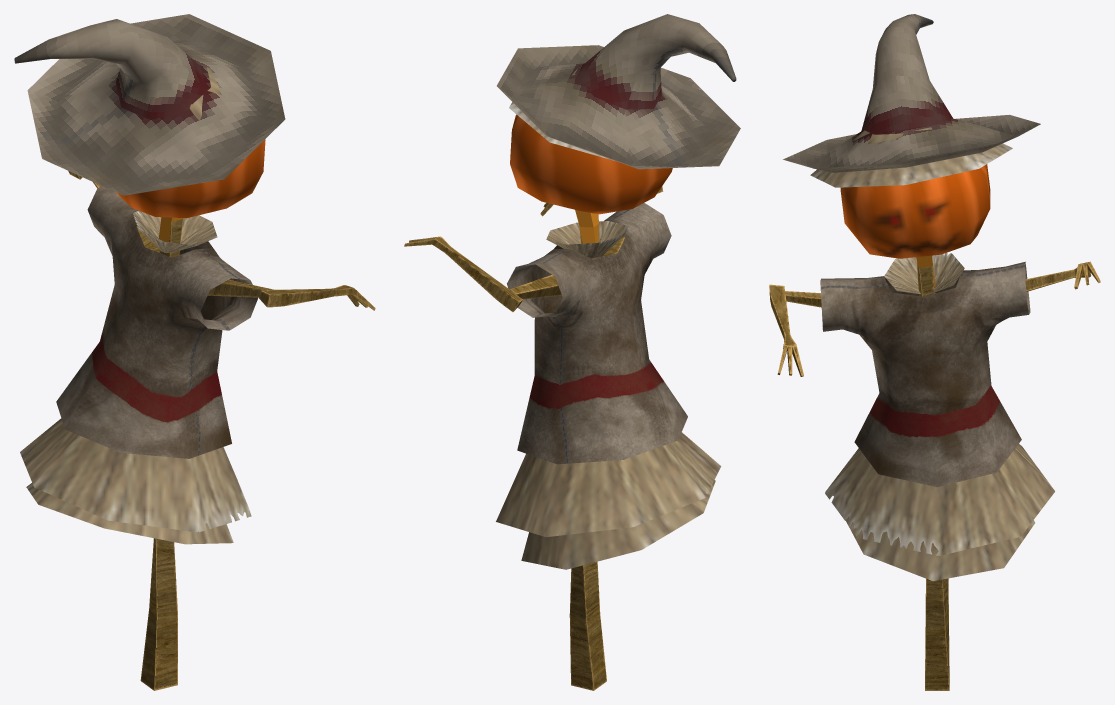
The model's file is SACRECROW.fbx.
3 renders of one model, left to right at view 1: azimuth 30°, elevation 25°; view 2: azimuth 150°, elevation 25°; view 3: azimuth 270°, elevation 25°, orthographic. The views are drawn at different scales.
Parts seen in each view (by area): view 1: HAT, body, HAY, arms, FACE; view 2: body, HAT, HAY, FACE, arms, NECK; view 3: body, HAY, HAT, FACE, arms.
Boxes of the visible parts, bbox=[...] form: HAT: bbox=[14, 14, 285, 195]; body: bbox=[56, 186, 257, 458]; HAY: bbox=[20, 67, 251, 544]; arms: bbox=[68, 171, 375, 690]; FACE: bbox=[115, 139, 265, 218]; body: bbox=[507, 203, 687, 464]; HAT: bbox=[497, 14, 740, 169]; HAY: bbox=[496, 62, 721, 569]; FACE: bbox=[510, 114, 672, 214]; arms: bbox=[404, 186, 663, 690]; NECK: bbox=[575, 210, 598, 243]; body: bbox=[820, 261, 1030, 486]; HAY: bbox=[810, 127, 1054, 581]; HAT: bbox=[783, 14, 1040, 172]; FACE: bbox=[840, 164, 990, 258]; arms: bbox=[769, 261, 1100, 690].
Bounding box in the file's own units: 217 × 519 × 249.
